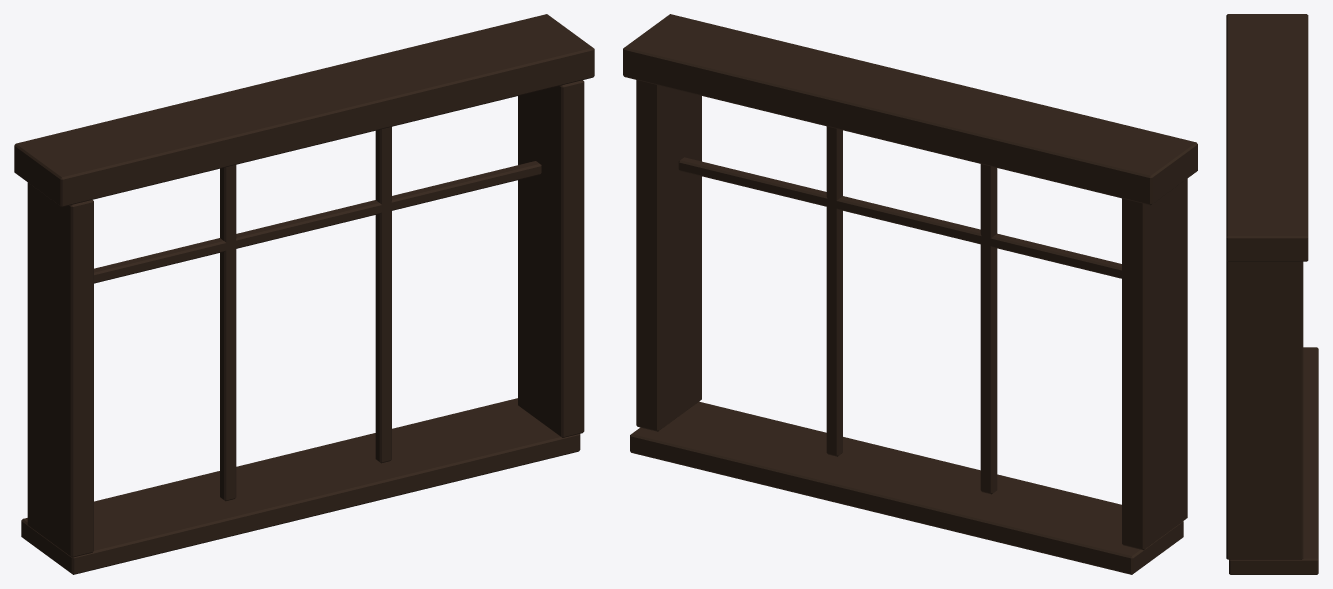
File: frame_shop_w12.fbx
3 renders of one model, left to right at view 1: azimuth 30°, elevation 25°; view 2: azimuth 150°, elevation 25°; view 3: azimuth 270°, elevation 25°, orthographic. The views are drawn at different scales.
Visible parts, largest first — view 1: frame_shop_w12; view 2: frame_shop_w12; view 3: frame_shop_w12.
Boxes of the visible parts, bbox=[...] form: frame_shop_w12: bbox=[14, 14, 594, 574]; frame_shop_w12: bbox=[623, 14, 1197, 574]; frame_shop_w12: bbox=[1226, 14, 1318, 574].
Bounding box in the file's own units: 1030 × 740 × 180.
